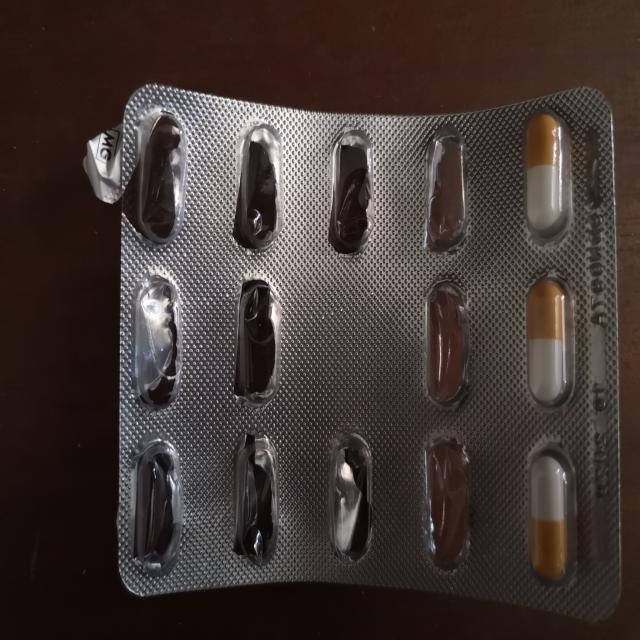Empty: (122, 431, 189, 581), (415, 426, 478, 577), (126, 262, 187, 415), (320, 426, 384, 570), (224, 424, 286, 571), (319, 120, 381, 262), (413, 273, 475, 413), (131, 100, 188, 251), (229, 115, 288, 259), (227, 272, 285, 410), (419, 125, 475, 258)
Pill: (516, 441, 587, 590), (520, 268, 578, 414), (515, 106, 575, 246)
